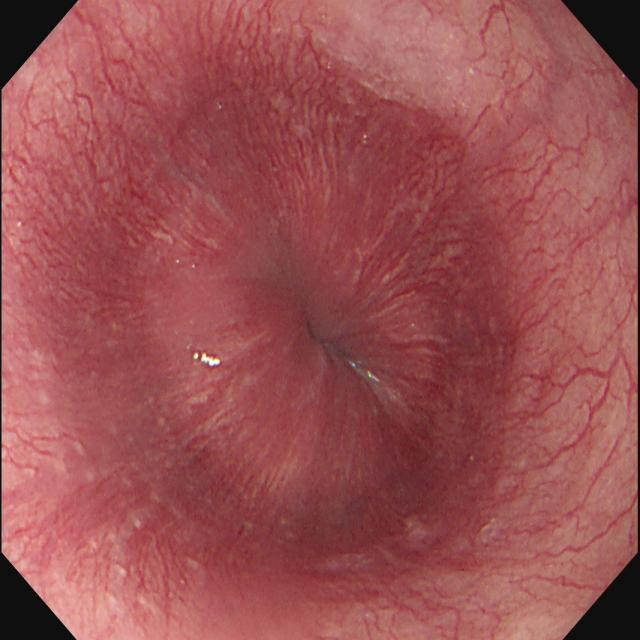I: (94, 59, 505, 574)
U: (192, 350, 223, 369)
